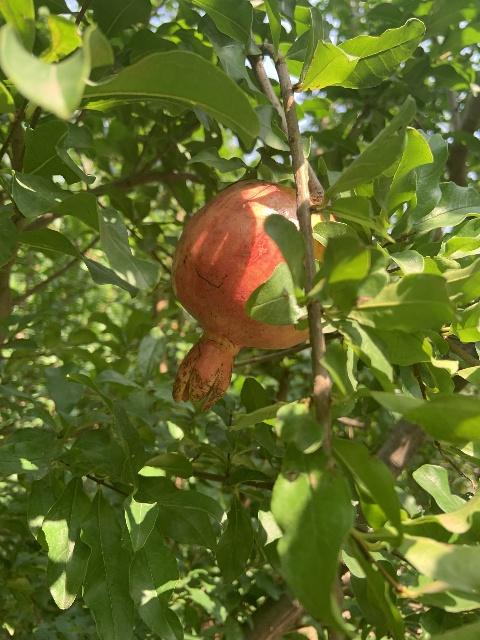ripe: (171, 178, 336, 413)
